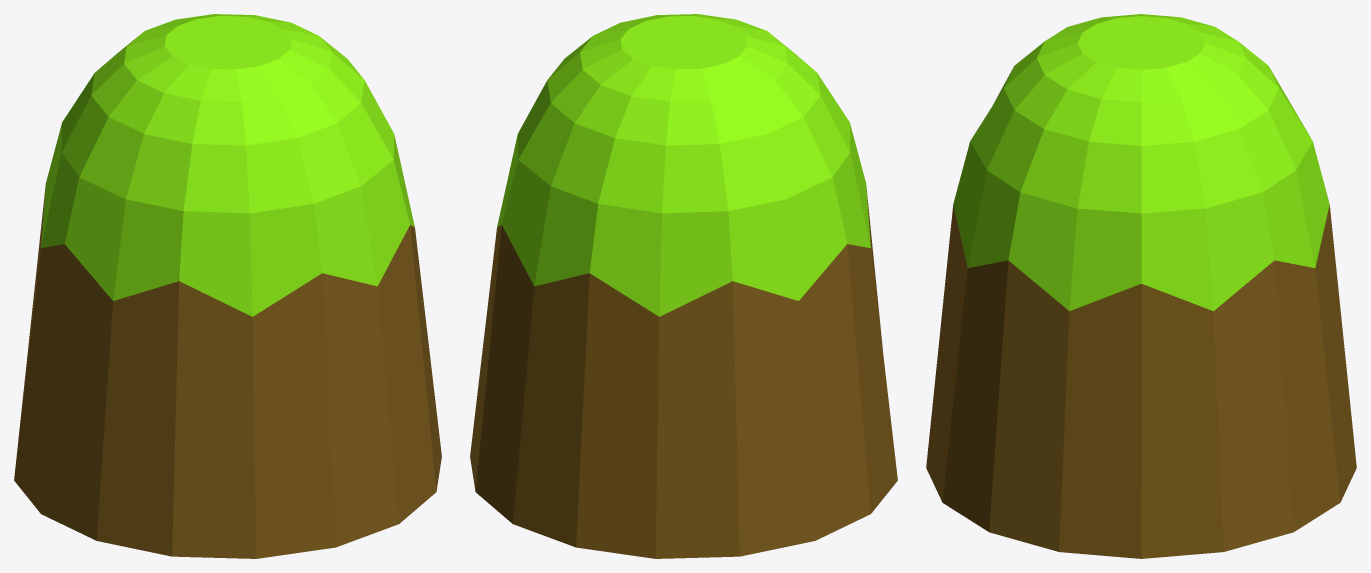
File: Mountain 1.fbx
The picture shows the model from 3 angles, left to right: view 1: azimuth 30°, elevation 25°; view 2: azimuth 150°, elevation 25°; view 3: azimuth 270°, elevation 25°; orthographic projection.
Visible parts, largest first — view 1: Cylinder.001; view 2: Cylinder.001; view 3: Cylinder.001.
Boxes of the visible parts, x1,y1,x2,y2 form: Cylinder.001: [14, 14, 441, 558]; Cylinder.001: [470, 14, 897, 558]; Cylinder.001: [926, 14, 1356, 558].
Bounding box in the file's own units: 244 × 266 × 244.
